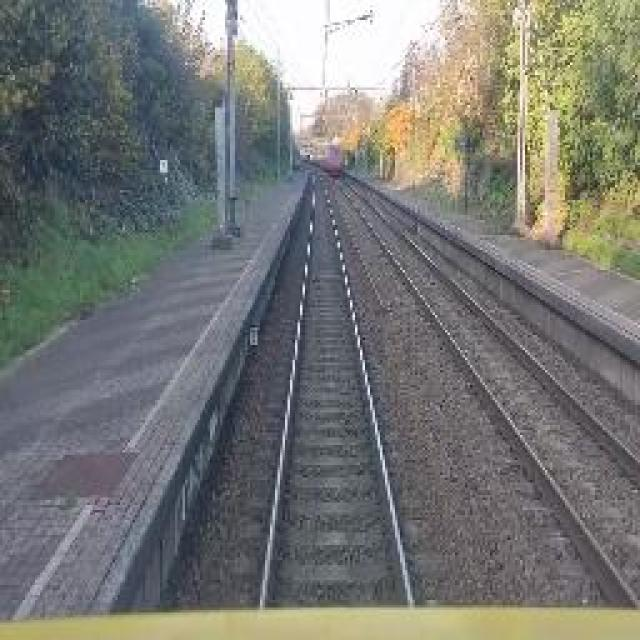rail: (225, 172, 440, 612)
